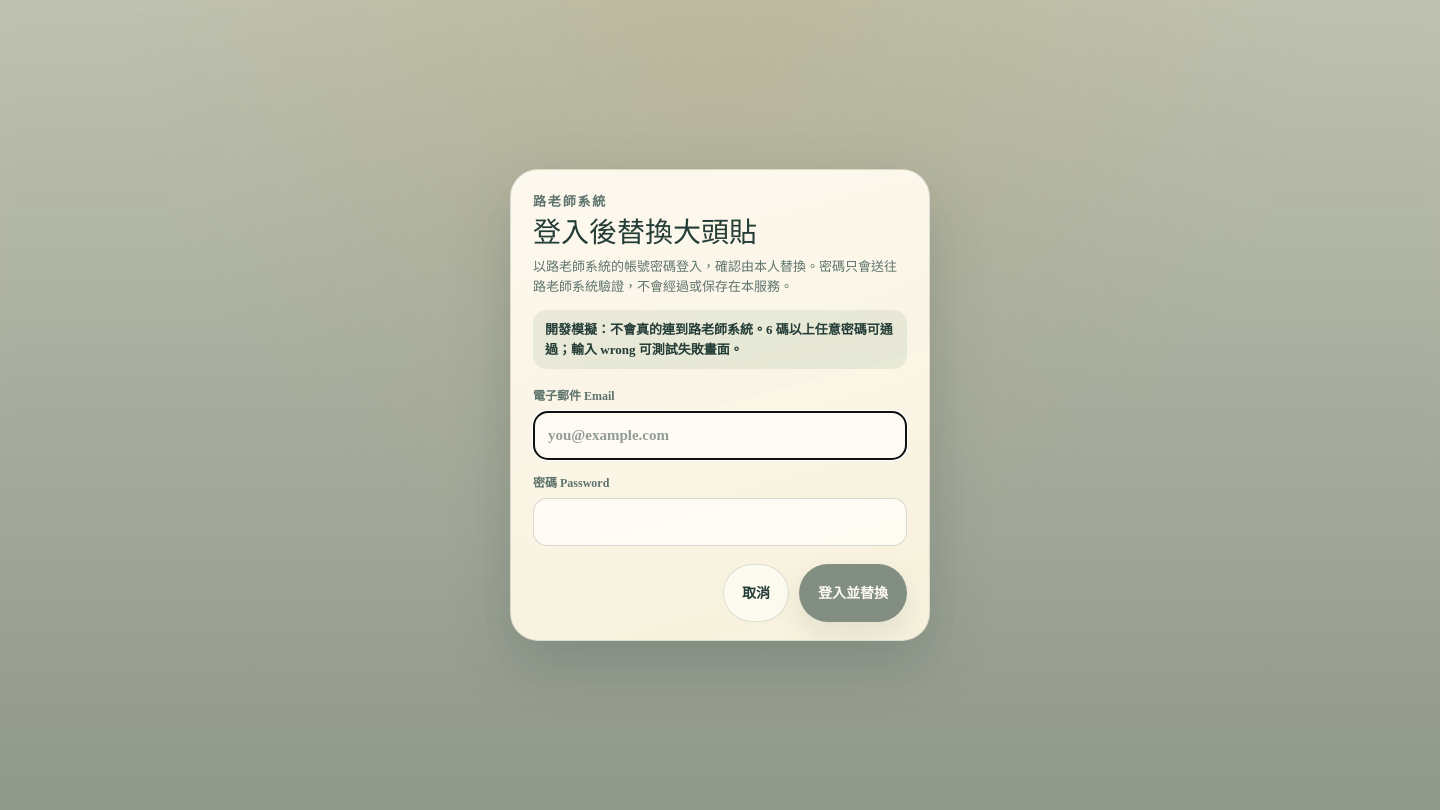
Test: RoadTeacherLoginModal › keeps a wrong password inline without closing the sheet
Type "guest@example.com" into the field labelled "電子郵件 Email" at (720, 436), box [533,411,907,460]
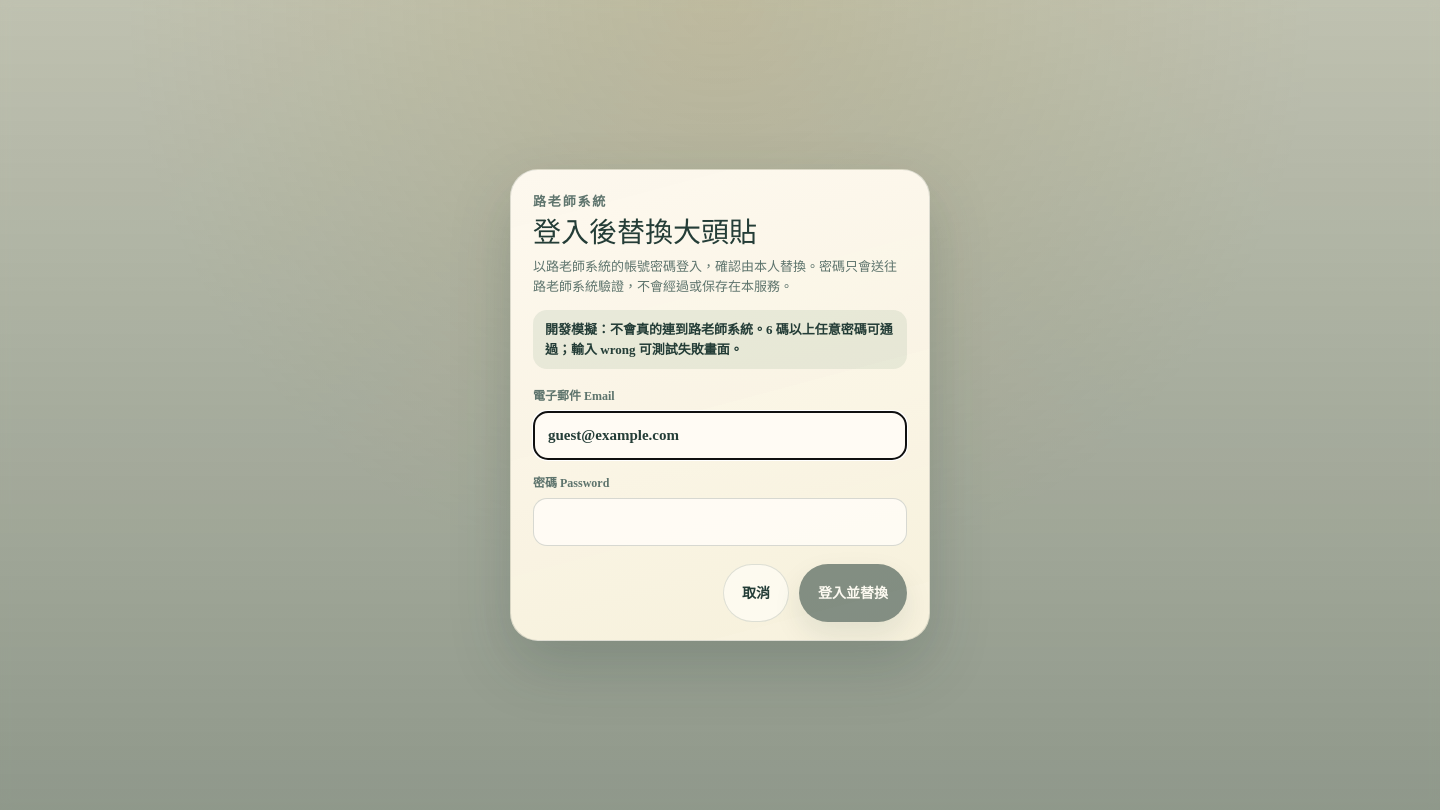
Type "wrong" into the password field labelled "密碼 Password" at (720, 522), box [533,498,907,546]
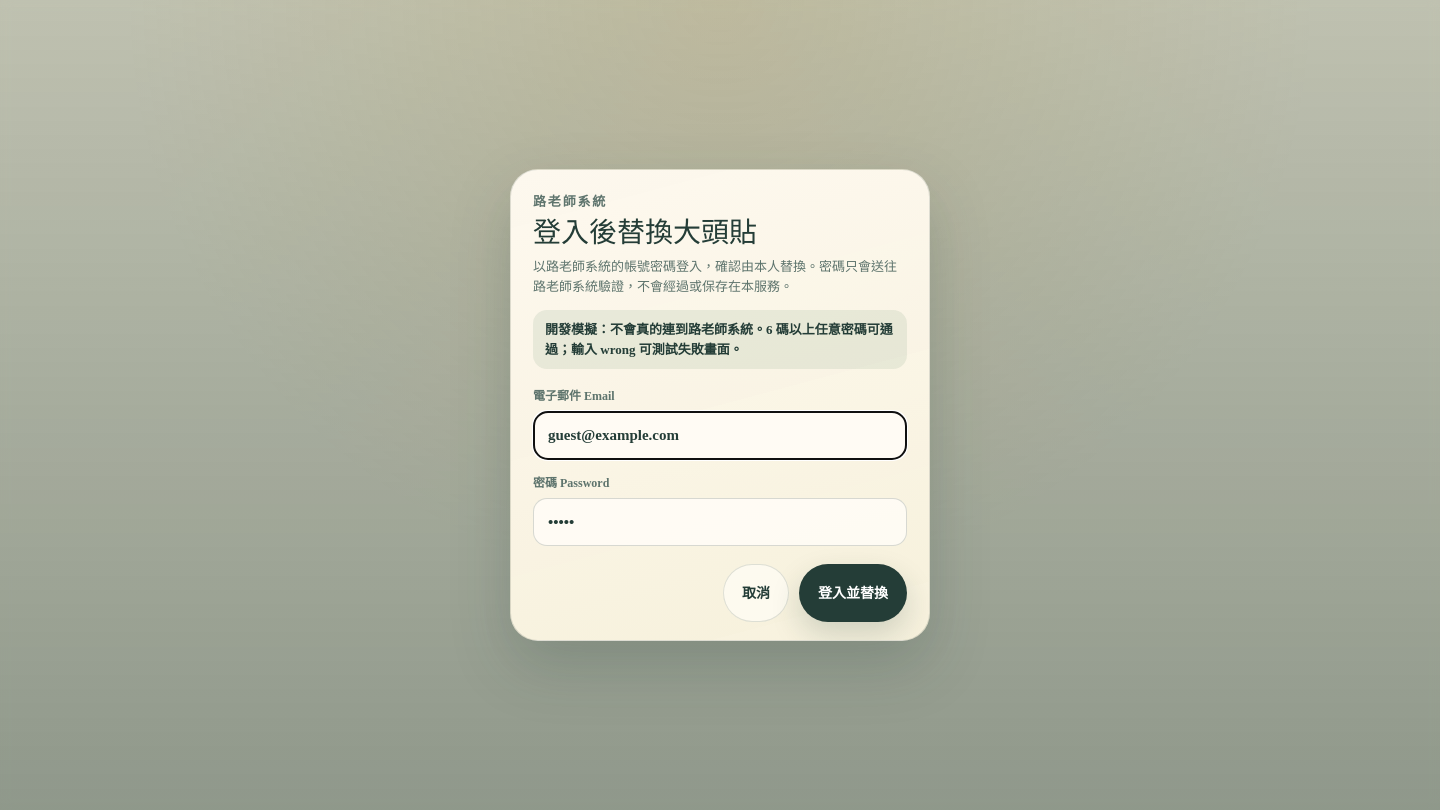
Click the button "登入並替換" at (853, 593), box [799,564,907,622]
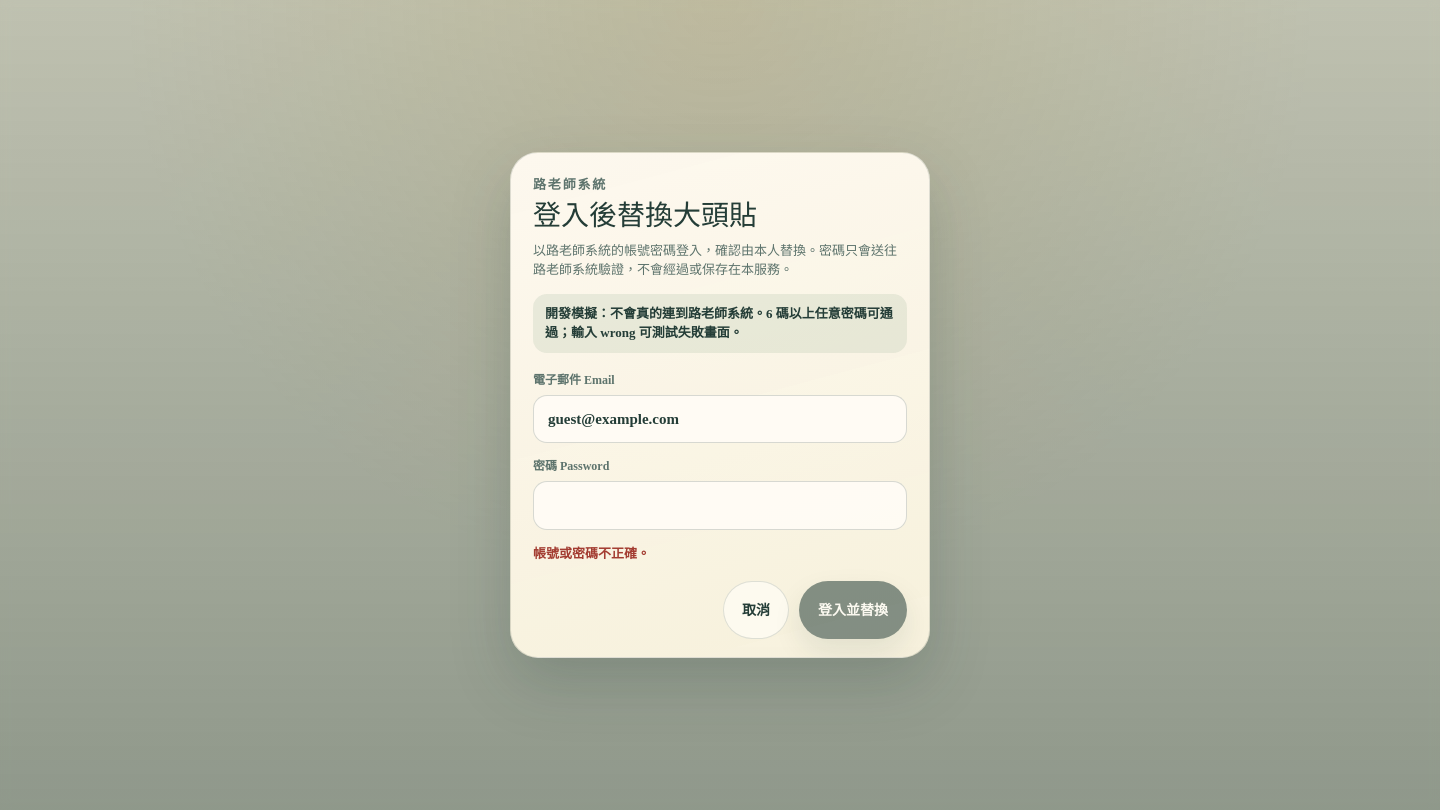
Expected: the dialog is shown, [510,152,930,658]
Expected: the text "帳號或密碼不正確。" is shown, [533,546,650,561]
